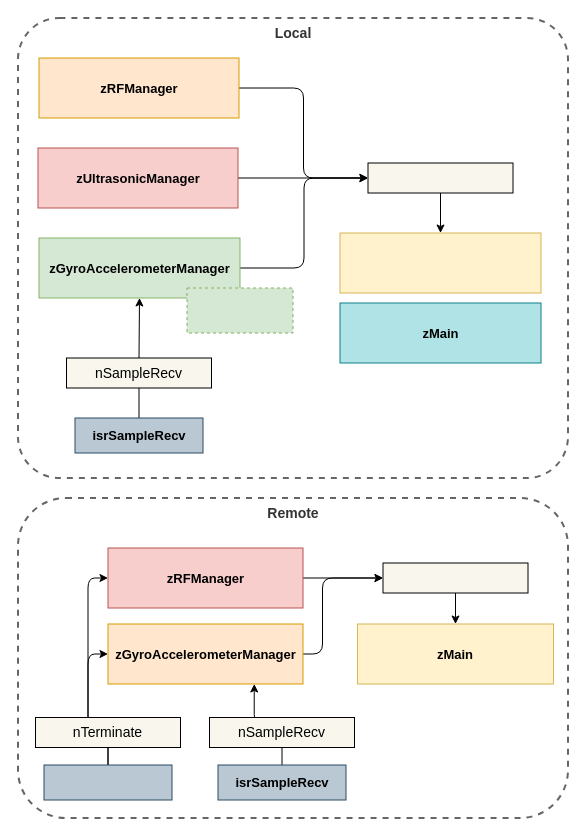
The diagram is 586 pixels wide and 836 high, and some of its shapes have lost their labels. The centre of each missing label's shape, as x and y in pixels:
"isrEdgeDetect ( daughter isr)" belongs at (239,310).
"isrShutdown" belongs at (107,782).
"semConfig" belongs at (440,177).
"semJoin" belongs at (455,577).
"zInferenceManager" belongs at (440,262).
